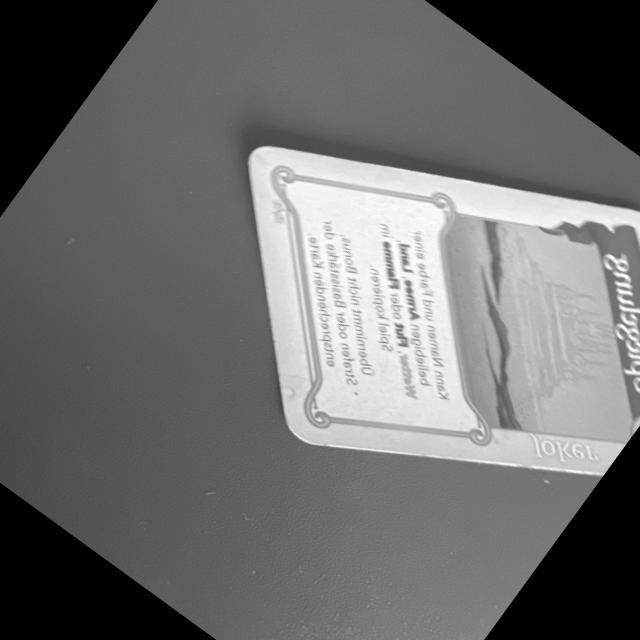Mirage: (251, 140, 640, 466)
